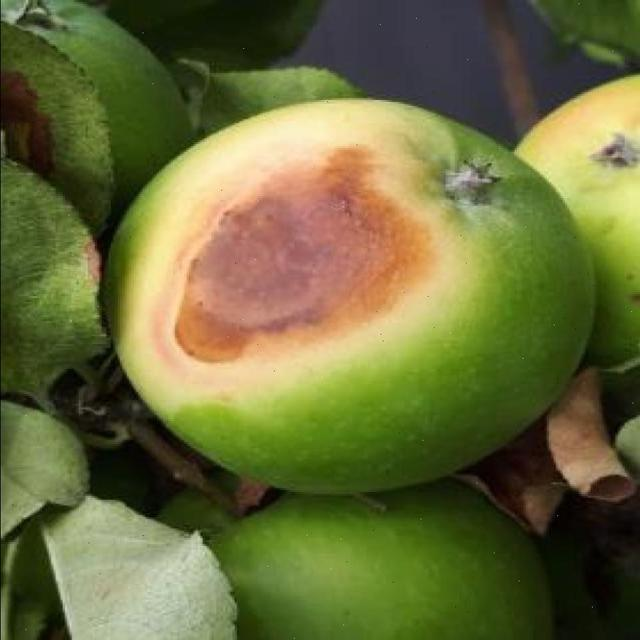Sunscald Fruit: (98, 74, 292, 263)
